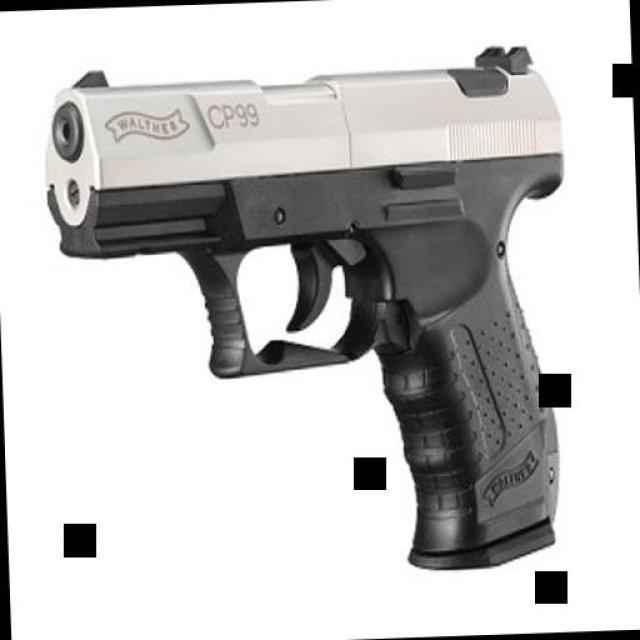gun: (39, 42, 579, 586)
